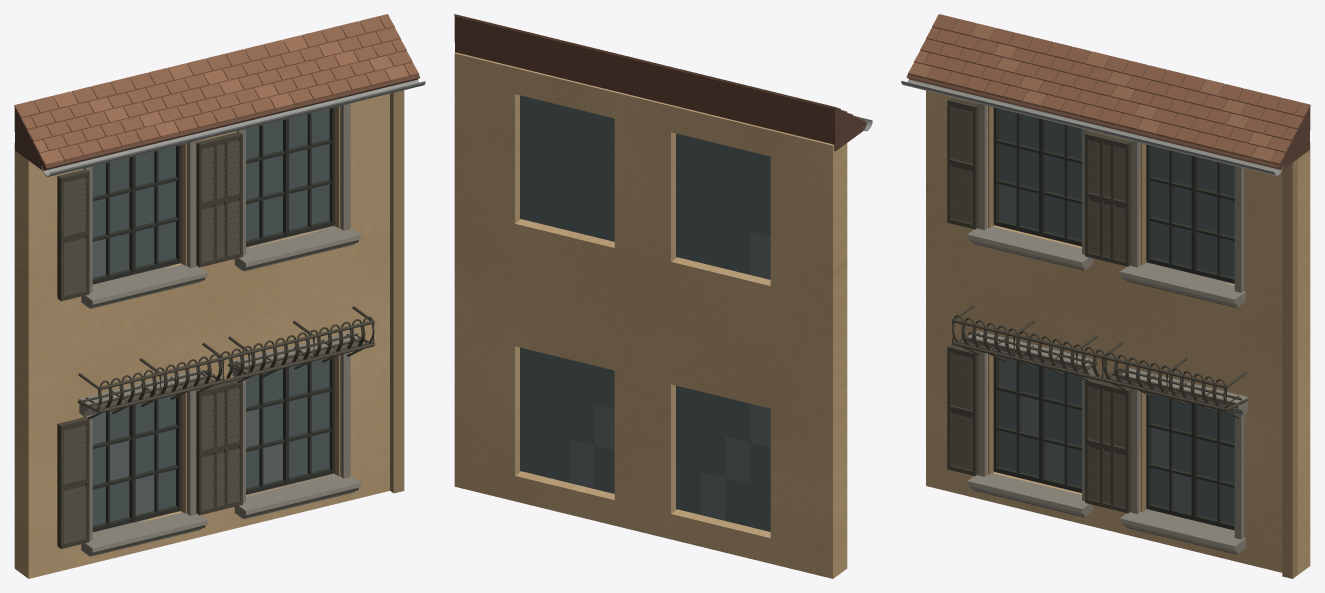
Rendered from changning-shengshi-garden-paired-windows-raw.glb.
3 renders of one model, left to right at view 1: azimuth 30°, elevation 25°; view 2: azimuth 150°, elevation 25°; view 3: azimuth 330°, elevation 25°, orthographic. The views are drawn at different scales.
Visible parts, largest first — view 1: 盛世花园临街双联钢窗与铁花架; view 2: 盛世花园临街双联钢窗与铁花架; view 3: 盛世花园临街双联钢窗与铁花架.
Boxes of the visible parts, x1,y1,x2,y2 form: 盛世花园临街双联钢窗与铁花架: [14, 14, 425, 578]; 盛世花园临街双联钢窗与铁花架: [454, 14, 872, 578]; 盛世花园临街双联钢窗与铁花架: [901, 14, 1310, 578].
Bounding box in the file's own units: 3.91 × 4.63 × 0.679.
14 materials, 1 textured.
